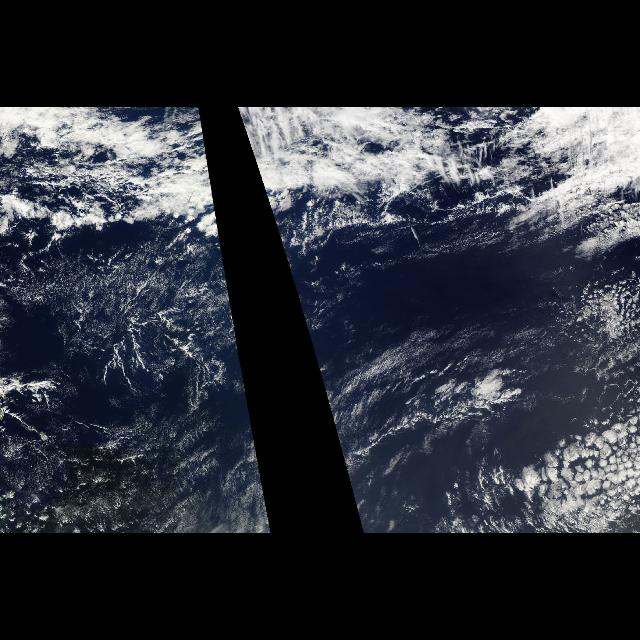Fish: (239, 113, 467, 247), (8, 113, 222, 247)
Sugar: (11, 252, 269, 520), (288, 268, 486, 520)
